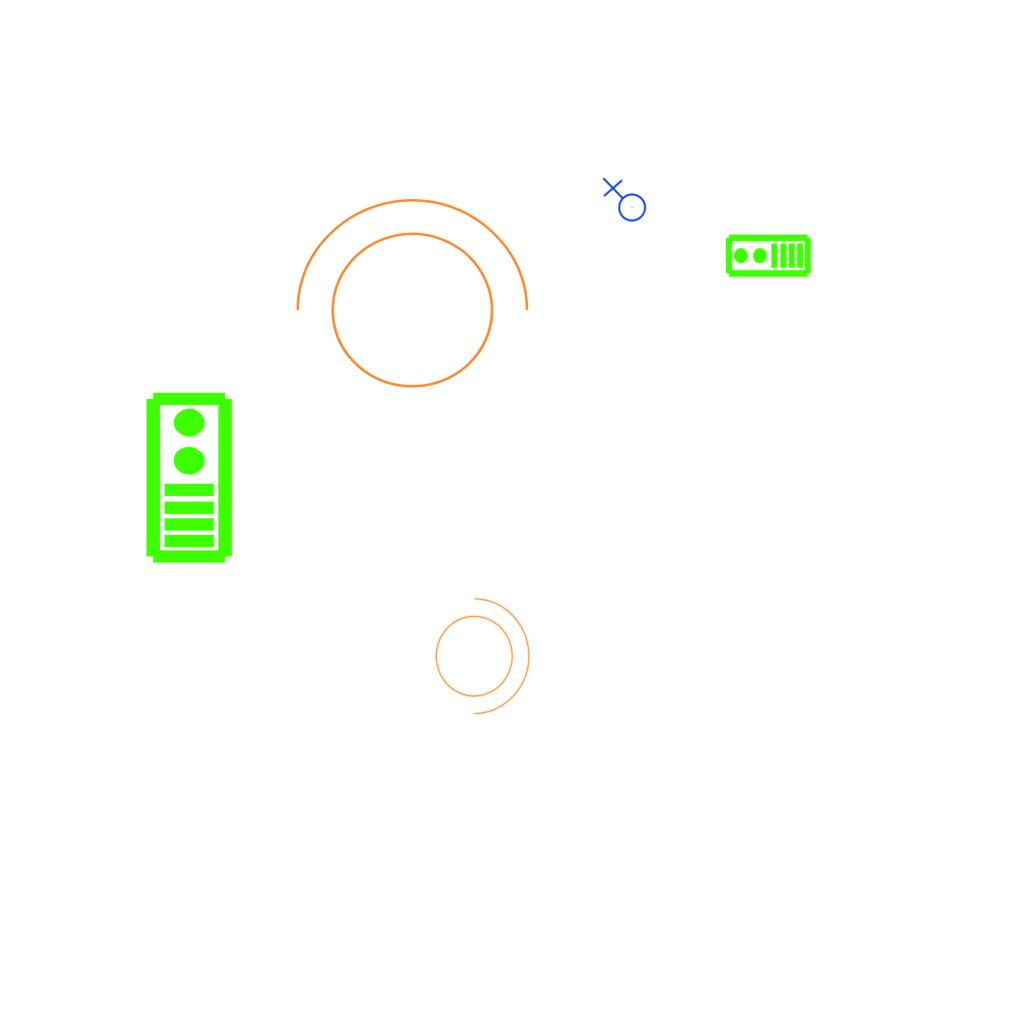Elektroanschluss_allgemein_230V_Geraeteanschlussdose_230V: (600, 177, 647, 226)
Gegensprechanlage_mit_Video: (140, 389, 235, 565), (724, 233, 812, 280)
Scheinwerfer_fuer_Alarmbeleuchtung: (274, 188, 538, 413), (423, 587, 535, 719)
